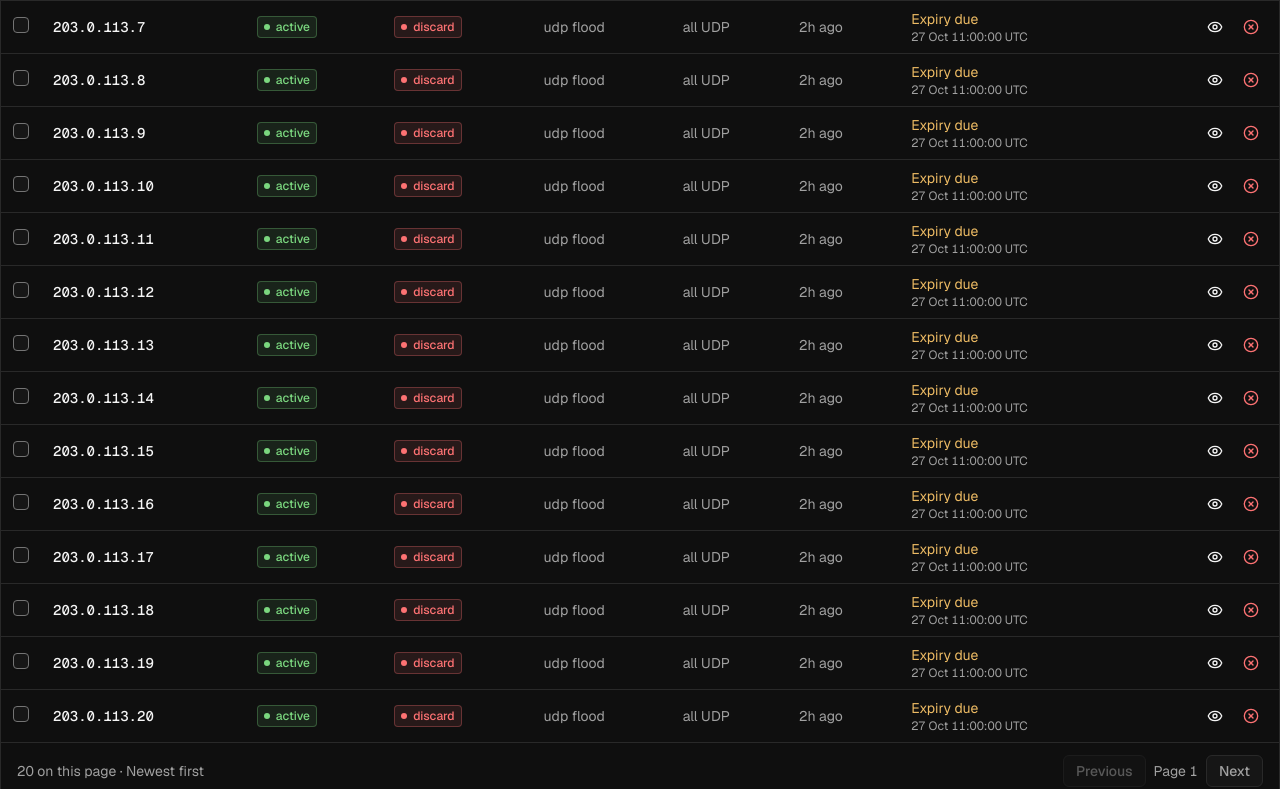
review regressions › keeps rows visible on a rapid Next-Previous revisit under production deduplication
The width and height of the screenshot is (1280, 789).
(page scrolled)
What coordinates should you click on to do the following:
click the button "Next"
I would click on:
 (1234, 770)
Its box is x1=1206 y1=754 x2=1263 y2=786.
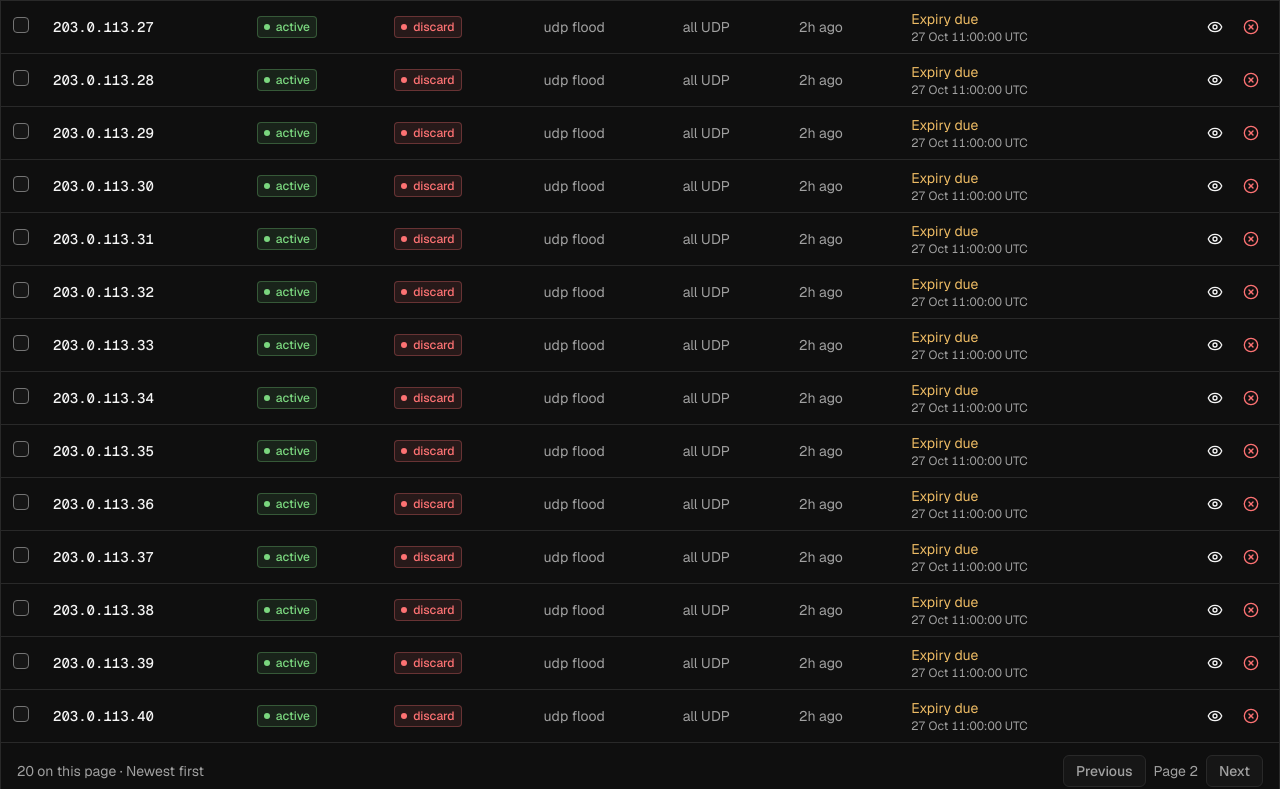
What coordinates should you click on to do the following:
click the button "Previous"
I would click on:
 (1104, 770)
Its box is x1=1063 y1=754 x2=1146 y2=786.
(page scrolled)
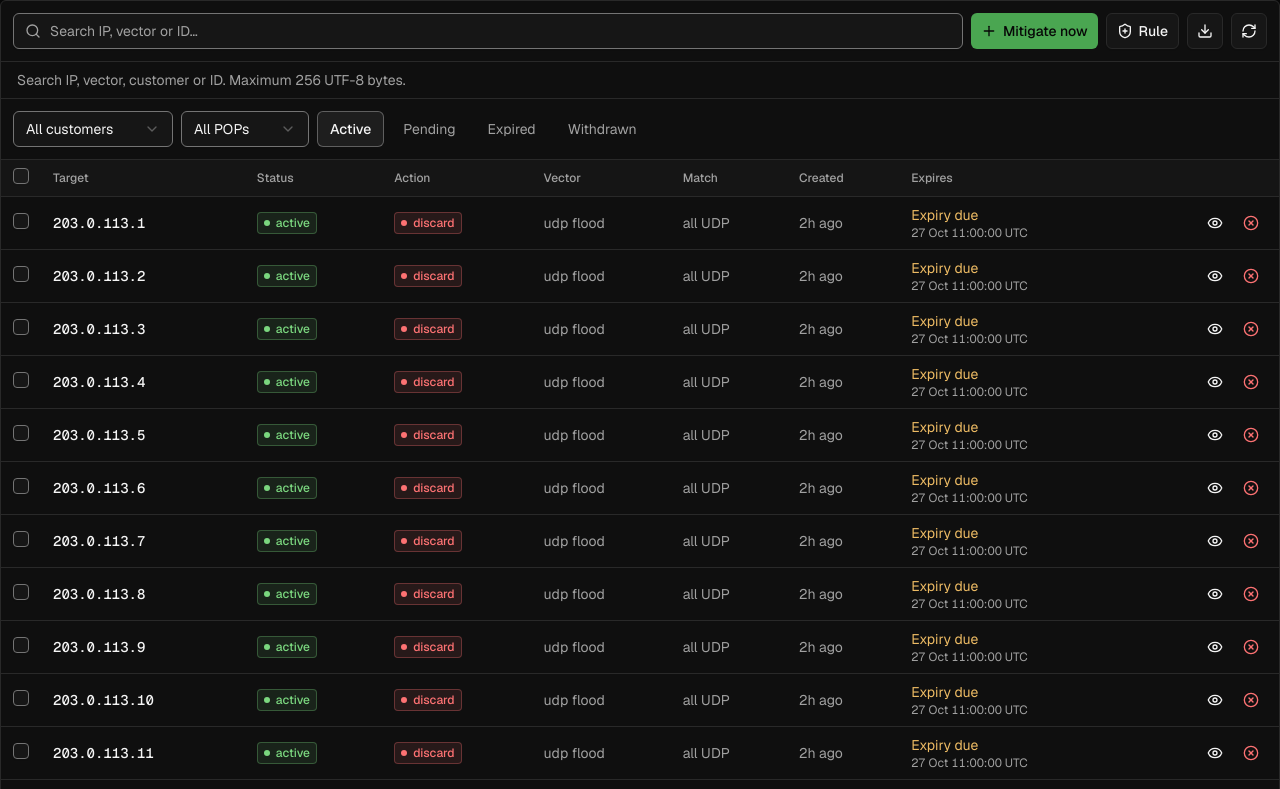
Expected: the link "203.0.113.1" is shown, x1=53 y1=214 x2=145 y2=232
